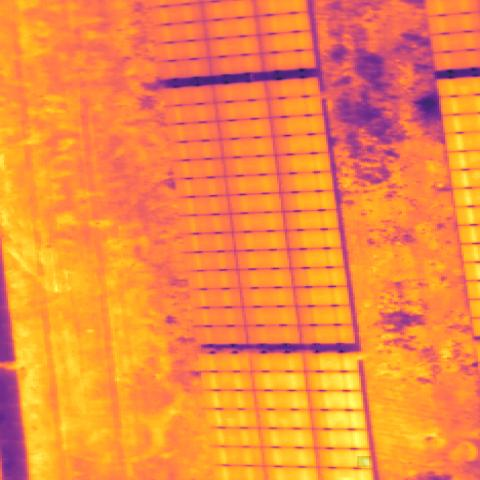fault: (357, 456, 371, 467)
